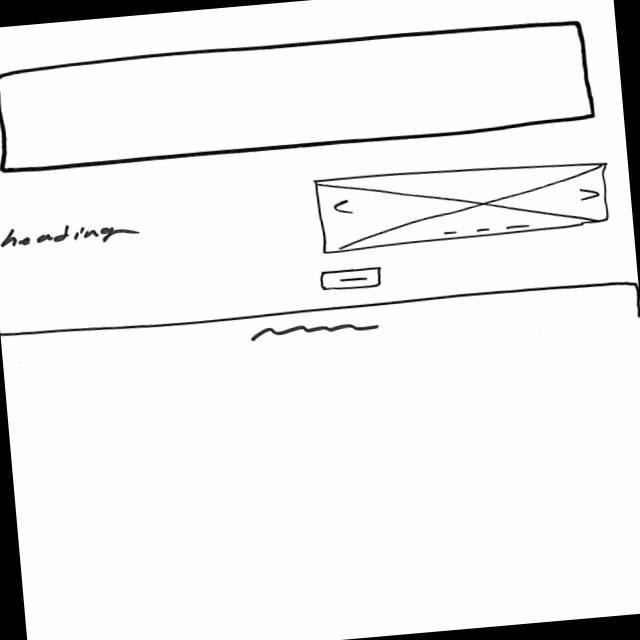container: (1, 18, 596, 175)
icon-button: (320, 266, 384, 293)
image: (313, 153, 613, 255)
label: (1, 217, 143, 252)
text: (247, 317, 383, 344)
